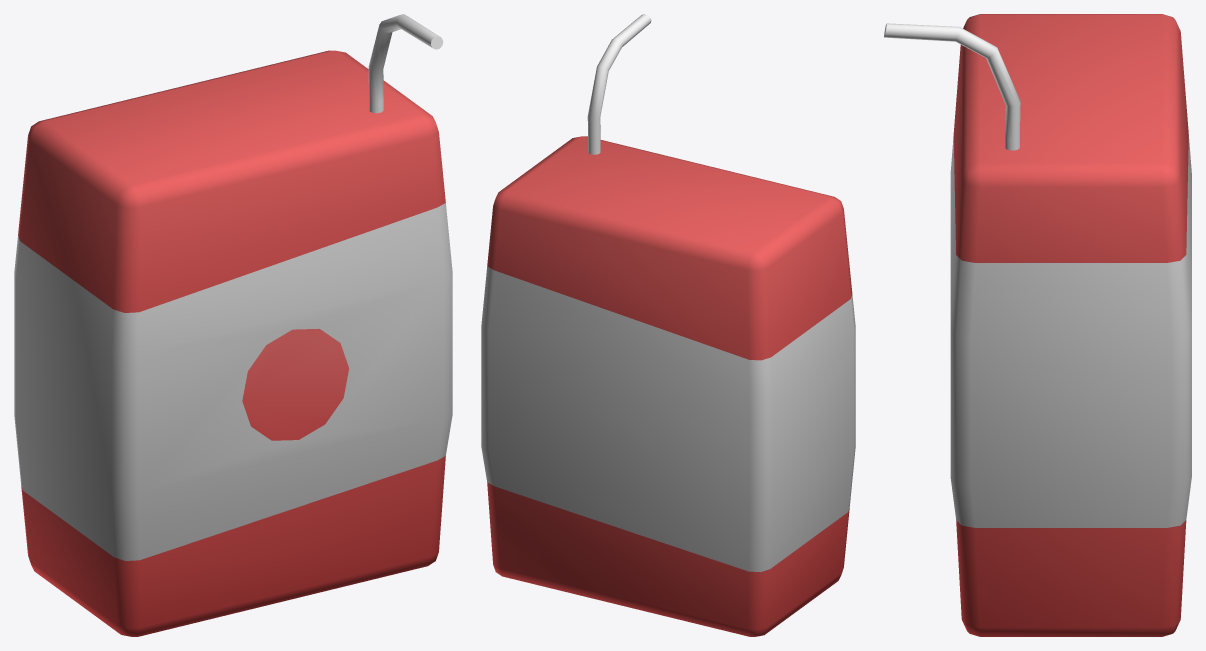
File: Juice Carton_4.fbx
3 views of the same model, side by side, from view 1: azimuth 30°, elevation 25°; view 2: azimuth 150°, elevation 25°; view 3: azimuth 270°, elevation 25° (orthographic). The views are drawn at different scales.
Parts seen in each view (by area): view 1: Juice Carton_4; view 2: Juice Carton_4; view 3: Juice Carton_4.
Part boxes in pixels (<box>): Juice Carton_4: <box>14,14,452,636</box>; Juice Carton_4: <box>481,14,855,636</box>; Juice Carton_4: <box>884,14,1191,636</box>.
Size of the model in its own units: 0.0605 by 0.0971 by 0.0454.
